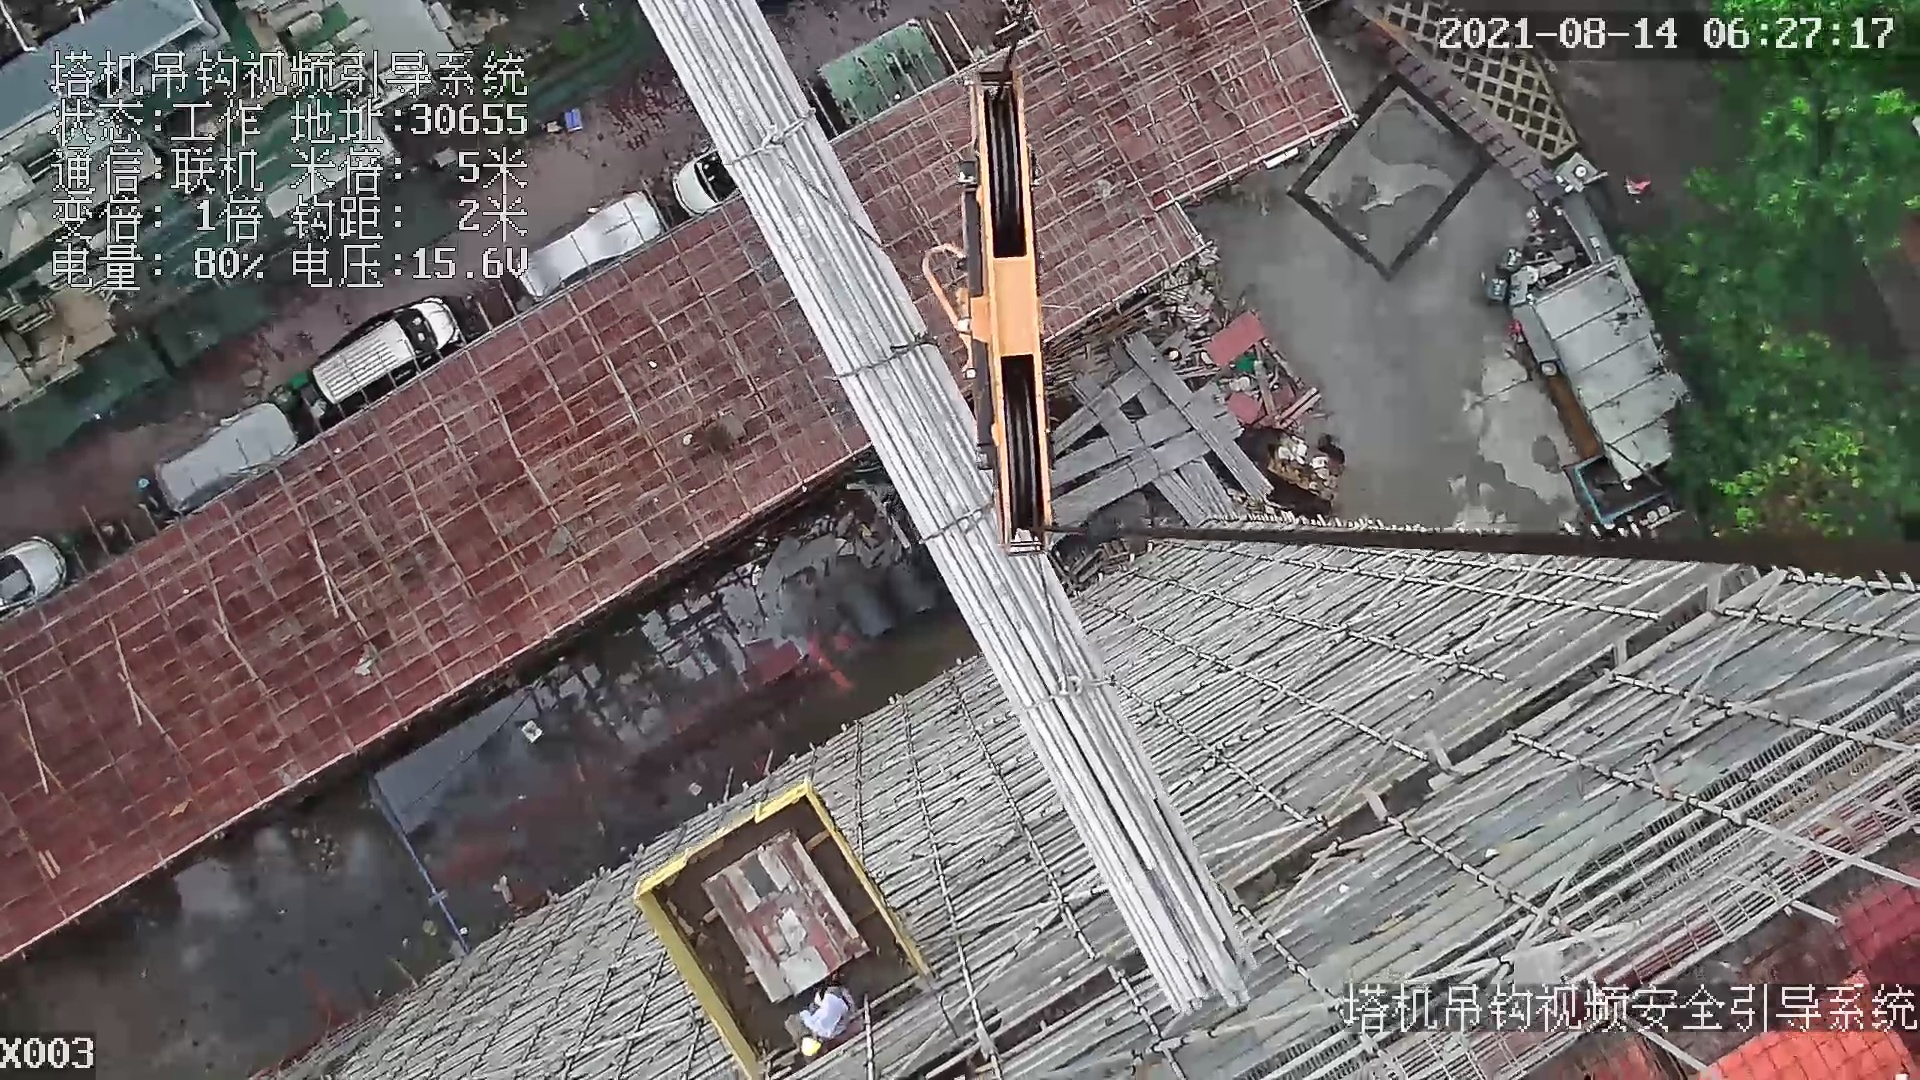helmet: (793, 1027, 836, 1062)
hook: (953, 68, 1062, 560)
person: (793, 986, 854, 1057)
